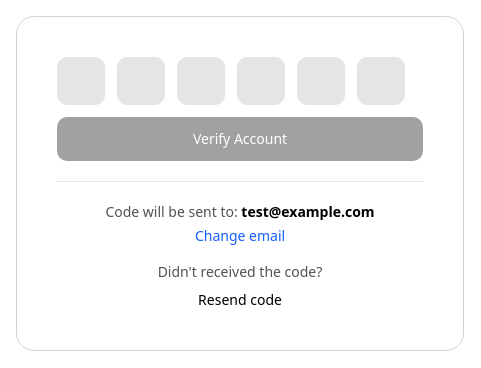
Scenario: VerifyAccountForm › should toggle email input when change email is clicked
This screenshot has width=481, height=368.
Click the button "Change email" at x=240, y=236, box [195, 226, 285, 246]
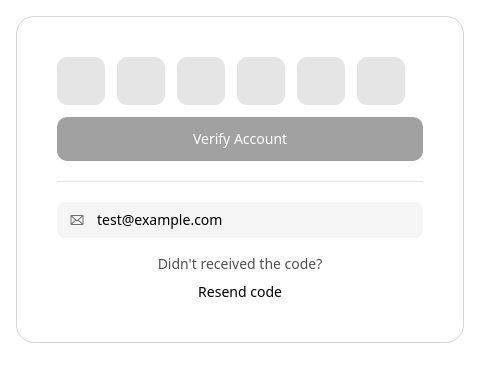
Result: the 2nd field with placeholder "you@example.com" is shown at [57, 202, 423, 238]
